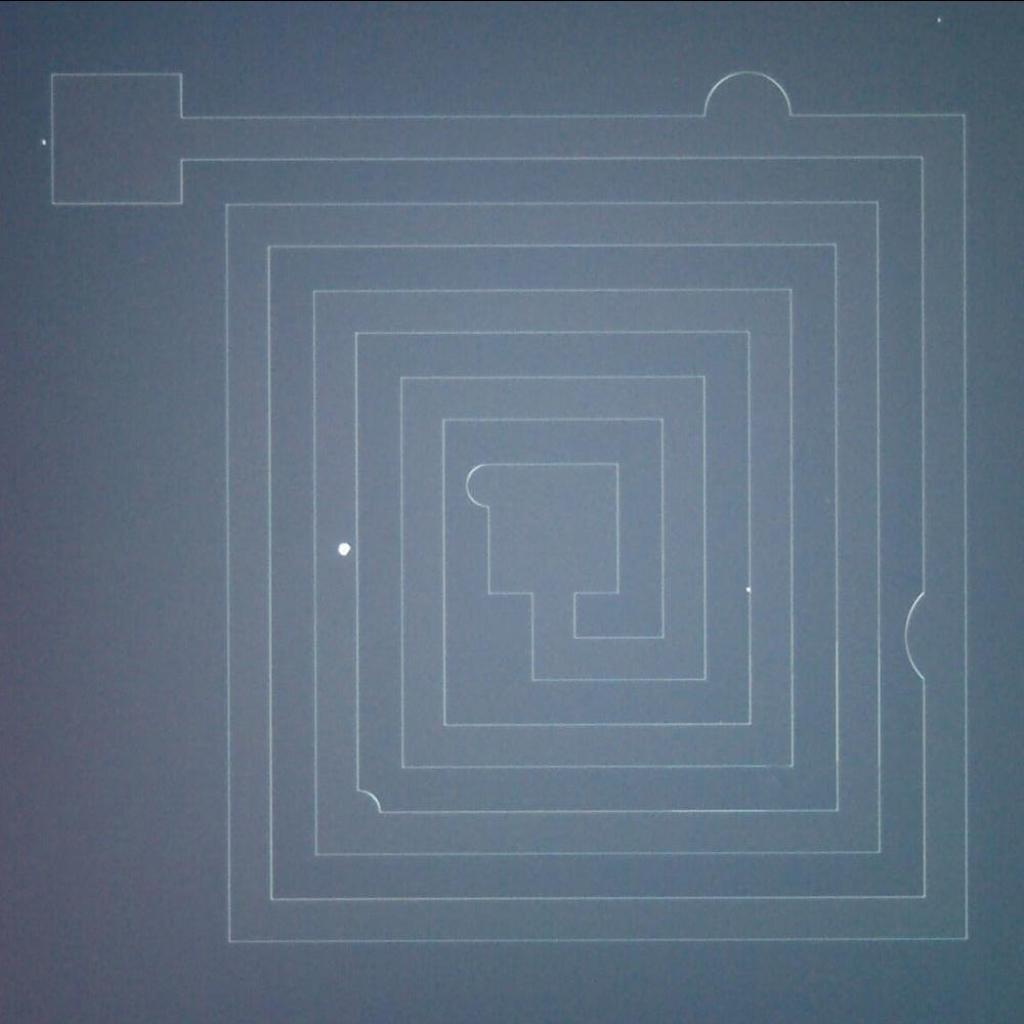curve circuit: (694, 64, 810, 135), (900, 579, 936, 692), (456, 457, 503, 518), (348, 776, 390, 824)
dot: (918, 2, 956, 36), (733, 571, 761, 600), (29, 128, 53, 158)
spot: (324, 530, 362, 565)
